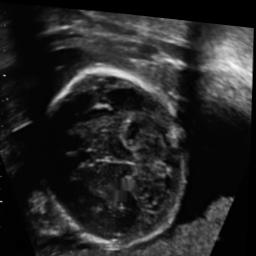normal: (31, 50, 195, 253)
